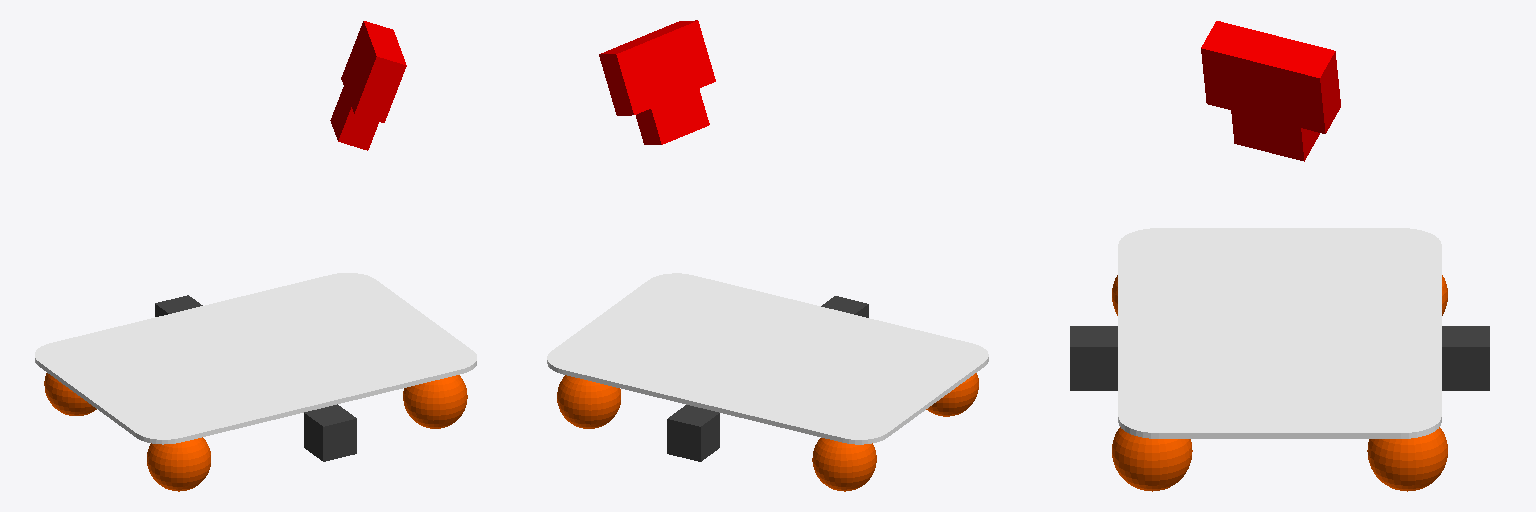
--- Facts derived from the render (not from the file) ---
3 views of the same robot in one strip: view 1: azimuth 30°, elevation 25°; view 2: azimuth 150°, elevation 25°; view 3: azimuth 270°, elevation 25° (orthographic).
Model youbot with 21 links and 20 joints (5 revolute, 8 continuous, 7 fixed), rooted at base_footprint, posed all joints at 0.
Visible links, largest first — view 1: plate_link, gripper_finger_link, wheel_link_br, wheel_link_fr, base_laser_left_link, gripper_palm_link, wheel_link_bl, base_laser_right_link; view 2: plate_link, gripper_finger_link, wheel_link_bl, wheel_link_fl, gripper_palm_link, base_laser_right_link, wheel_link_br, base_laser_left_link; view 3: plate_link, gripper_finger_link, wheel_link_fl, wheel_link_fr, base_laser_right_link, base_laser_left_link, gripper_palm_link.
Link boxes in pixels (x1,y1,x2,y2): plate_link: (35,273,476,444); gripper_finger_link: (341,21,406,122); wheel_link_br: (147,437,210,491); wheel_link_fr: (403,375,467,428); base_laser_left_link: (304,404,356,461); gripper_palm_link: (330,87,378,150); wheel_link_bl: (44,373,96,415); base_laser_right_link: (155,295,202,316); plate_link: (547,273,988,444); gripper_finger_link: (599,20,715,115); wheel_link_bl: (812,438,876,491); wheel_link_fl: (557,375,620,428); gripper_palm_link: (636,89,709,144); base_laser_right_link: (667,405,719,461); wheel_link_br: (926,373,978,416); base_laser_left_link: (821,296,868,317); plate_link: (1118,228,1441,438); gripper_finger_link: (1201,21,1340,133); wheel_link_fl: (1367,427,1447,491); wheel_link_fr: (1112,427,1192,491); base_laser_right_link: (1442,326,1489,390); base_laser_left_link: (1070,326,1117,390); gripper_palm_link: (1231,110,1319,161).
Size in the robot's own frame: 0.6 by 0.52 by 0.6102 metres.
0 mesh visuals loaded from 7 distinct referenced files (none loaded); not drawn: 7 (reference not matched to a file when rendering).

URDF robot description (youbot):
<?xml version="1.0" ?>
<!-- =================================================================================== -->
<!-- |    This document was autogenerated by xacro from ros_workspace/youbot-ros-pkg/youbot_common/youbot_description/robots/youbot.urdf.xacro | -->
<!-- |    EDITING THIS FILE BY HAND IS NOT RECOMMENDED                                 | -->
<!-- =================================================================================== -->
<robot name="youbot" xmlns:controller="http://playerstage.sourceforge.net/gazebo/xmlschema/#controller" xmlns:interface="http://playerstage.sourceforge.net/gazebo/xmlschema/#interface" xmlns:sensor="http://playerstage.sourceforge.net/gazebo/xmlschema/#sensor" xmlns:xacro="http://ros.org/wiki/xacro">
  <!-- The following included files set up definitions of parts of the robot body -->
  <!-- misc common stuff? -->
  <!-- youbot base -->
  <!-- youbot plate -->
  <!-- youbot arm -->
  <!-- youbot gripper -->
  <!-- generic simulator_gazebo plugins for starting mechanism control, ros time, ros battery -->
  <gazebo>
    <plugin filename="libgazebo_ros_controller_manager.so" name="gazebo_ros_controller_manager">
      <alwaysOn>true</alwaysOn>
      <updateRate>1000.0</updateRate>
    </plugin>
    <plugin filename="libgazebo_ros_power_monitor.so" name="gazebo_ros_power_monitor_controller">
      <alwaysOn>true</alwaysOn>
      <updateRate>1.0</updateRate>
      <timeout>5</timeout>
      <interface:audio name="power_monitor_dummy_interface"/>
      <powerStateTopic>power_state</powerStateTopic>
      <powerStateRate>10.0</powerStateRate>
      <fullChargeCapacity>87.78</fullChargeCapacity>
      <dischargeRate>-474</dischargeRate>
      <chargeRate>525</chargeRate>
      <dischargeVoltage>15.52</dischargeVoltage>
      <chargeVoltage>16.41</chargeVoltage>
    </plugin>
  </gazebo>
  <!-- materials for visualization -->
  <material name="Orange">
    <color rgba="1.0 0.4 0.0 1.0"/>
  </material>
  <material name="Grey">
    <color rgba="0.7 0.7 0.7 1.0"/>
  </material>
  <material name="DarkGrey">
    <color rgba="0.3 0.3 0.3 1.0"/>
  </material>
  <material name="White">
    <color rgba="1.0 1.0 1.0 1.0"/>
  </material>
  <material name="Black">
    <color rgba="0.0 0.0 0.0 1.0"/>
  </material>
  <material name="Red">
    <color rgba="1.0 0.0 0.0 1.0"/>
  </material>
  <material name="Green">
    <color rgba="0.0 1.0 0.0 1.0"/>
  </material>
  <!-- Now we can start using the macros included above to define the actual youbot -->
  <!-- The first use of a macro.  This one was defined in base.urdf.xacro above.
       A macro like this will expand to a set of link and joint definitions, and to additional
       Gazebo-related extensions (sensor plugins, etc).  The macro takes an argument, name, 
       that equals "base", and uses it to generate names for its component links and joints 
       (e.g., base_link).  The included origin block is also an argument to the macro.  By convention, 
       the origin block defines where the component is w.r.t its parent (in this case the parent 
       is the world frame). For more, see http://www.ros.org/wiki/xacro -->
  <!-- foot for arm-->
  <link name="base_footprint">
    <inertial>
      <mass value="0.1"/>
      <origin rpy="0 0 0" xyz="0 0 -0.05"/>
      <inertia ixx="1.0" ixy="0.0" ixz="0.0" iyy="1.0" iyz="0.0" izz="1.0"/>
    </inertial>
    <visual>
      <origin rpy="0 0 0" xyz="0 0 0"/>
      <geometry>
        <box size="0.001 0.001 0.001"/>
      </geometry>
      <material name="Red"/>
    </visual>
    <collision>
      <origin rpy="0 0 0" xyz="0 0 -0.05"/>
      <geometry>
        <box size="0.001 0.001 0.001"/>
      </geometry>
    </collision>
  </link>
  <joint name="base_footprint_joint" type="fixed">
    <origin rpy="0 0 0" xyz="0 0 0"/>
    <child link="base_link"/>
    <parent link="base_footprint"/>
  </joint>
  <link name="base_link">
    <inertial>
      <mass value="22.0"/>
      <origin xyz="0 0 0"/>
      <inertia ixx="5.652232699207" ixy="-0.009719934438" ixz="1.293988226423" iyy="5.669473158652" iyz="-0.007379583694" izz="3.683196351726"/>
    </inertial>
    <visual>
      <origin rpy="0 0 0" xyz="0 0 0"/>
      <geometry>
        <mesh filename="package://youbot_description/meshes/youbot_base/base.dae"/>
      </geometry>
      <material name="DarkGrey"/>
    </visual>
    <collision>
      <origin rpy="0 0 0" xyz="0 0 0"/>
      <geometry>
        <!--<box size="${base_size_x} ${base_size_y} ${base_size_z}" />-->
        <mesh filename="package://youbot_description/meshes/youbot_base/base_convex.dae"/>
      </geometry>
    </collision>
  </link>
 
  <joint name="caster_joint_fl" type="continuous">
    <origin rpy="0 0 0" xyz="0.228 0.158 -0.034"/>
    <axis xyz="0 0 1"/>
    <limit effort="30" velocity="10"/>
    <dynamics damping="1.0" friction="1.0"/>
    <safety_controller k_velocity="10.0"/>
    <parent link="base_link"/>
    <child link="caster_link_fl"/>
  </joint>
  <link name="caster_link_fl">
    <inertial>
      <mass value="0.1"/>
      <origin xyz="0 0 0"/>
      <inertia ixx="0.012411765597" ixy="-0.000711733678" ixz="0.00050272983" iyy="0.015218160428" iyz="-0.000004273467" izz="0.011763977943"/>
    </inertial>
  </link>
  <joint name="wheel_joint_fl" type="continuous">
    <axis xyz="0 1 0"/>
    <limit effort="30" velocity="10"/>
    <origin rpy="0 0 0" xyz="0.0 0.0 0.0"/>
    <parent link="caster_link_fl"/>
    <dynamics damping="1.0" friction="1.0"/>
    <safety_controller k_velocity="10.0"/>
    <child link="wheel_link_fl"/>
  </joint>
  <link name="wheel_link_fl">
    <inertial>
      <mass value="0.4"/>
      <origin xyz="0 0 0"/>
      <inertia ixx="0.012411765597" ixy="-0.000711733678" ixz="0.00050272983" iyy="0.015218160428" iyz="-0.000004273467" izz="0.011763977943"/>
    </inertial>
    <visual>
      <origin rpy="0 0 0" xyz="0 0 0"/>
      <!--<mesh filename="package://youbot_description/meshes/youbot_base/youbot_wheel.stl" />-->
      <geometry>
        <sphere radius="0.05"/>
      </geometry>
      <material name="Orange"/>
    </visual>
    <collision>
      <origin rpy="1.57079632679 0 0" xyz="0 0 0"/>
      <geometry>
        <cylinder length="0.05" radius="0.05"/>
      </geometry>
    </collision>
  </link>
  <joint name="caster_joint_fr" type="continuous">
    <origin rpy="0 0 0" xyz="0.228 -0.158 -0.034"/>
    <axis xyz="0 0 1"/>
    <limit effort="30" velocity="10"/>
    <dynamics damping="1.0" friction="1.0"/>
    <safety_controller k_velocity="10.0"/>
    <parent link="base_link"/>
    <child link="caster_link_fr"/>
  </joint>
  <link name="caster_link_fr">
    <inertial>
      <mass value="0.1"/>
      <origin xyz="0 0 0"/>
      <inertia ixx="0.012411765597" ixy="-0.000711733678" ixz="0.00050272983" iyy="0.015218160428" iyz="-0.000004273467" izz="0.011763977943"/>
    </inertial>
  </link>
  <joint name="wheel_joint_fr" type="continuous">
    <axis xyz="0 1 0"/>
    <limit effort="30" velocity="10"/>
    <dynamics damping="1.0" friction="1.0"/>
    <safety_controller k_velocity="10.0"/>
    <origin rpy="0 0 0" xyz="0.0 0.0 0.0"/>
    <parent link="caster_link_fr"/>
    <child link="wheel_link_fr"/>
  </joint>
  <link name="wheel_link_fr">
    <inertial>
      <mass value="0.4"/>
      <origin xyz="0 0 0"/>
      <inertia ixx="0.012411765597" ixy="-0.000711733678" ixz="0.00050272983" iyy="0.015218160428" iyz="-0.000004273467" izz="0.011763977943"/>
    </inertial>
    <visual>
      <origin rpy="0 0 0" xyz="0 0 0"/>
      <geometry>
        <!--<mesh filename="package://youbot_description/meshes/youbot_base/youbot_wheel.stl" />-->
        <sphere radius="0.05"/>
      </geometry>
      <material name="Orange"/>
    </visual>
    <collision>
      <origin rpy="1.57079632679 0 0" xyz="0 0 0"/>
      <geometry>
        <cylinder length="0.05" radius="0.05"/>
      </geometry>
    </collision>
  </link>
  <joint name="caster_joint_bl" type="continuous">
    <origin rpy="0 0 0" xyz="-0.228 0.158 -0.034"/>
    <axis xyz="0 0 1"/>
    <limit effort="30" velocity="10"/>
    <dynamics damping="1.0" friction="1.0"/>
    <safety_controller k_velocity="10.0"/>
    <parent link="base_link"/>
    <child link="caster_link_bl"/>
  </joint>
  <link name="caster_link_bl">
    <inertial>
      <mass value="0.1"/>
      <origin xyz="0 0 0"/>
      <inertia ixx="0.012411765597" ixy="-0.000711733678" ixz="0.00050272983" iyy="0.015218160428" iyz="-0.000004273467" izz="0.011763977943"/>
    </inertial>
  </link>
  <joint name="wheel_joint_bl" type="continuous">
    <axis xyz="0 1 0"/>
    <limit effort="10" velocity="10"/>
    <limit effort="30" velocity="10"/>
    <dynamics damping="1.0" friction="1.0"/>
    <safety_controller k_velocity="10.0"/>
    <origin rpy="0 0 0" xyz="0.0 0.0 0.0"/>
    <parent link="caster_link_bl"/>
    <child link="wheel_link_bl"/>
  </joint>
  <link name="wheel_link_bl">
    <inertial>
      <mass value="0.4"/>
      <origin xyz="0 0 0"/>
      <inertia ixx="0.012411765597" ixy="-0.000711733678" ixz="0.00050272983" iyy="0.015218160428" iyz="-0.000004273467" izz="0.011763977943"/>
    </inertial>
    <visual>
      <origin rpy="0 0 0" xyz="0 0 0"/>
      <geometry>
        <!--<mesh filename="package://youbot_description/meshes/youbot_base/youbot_wheel.stl" />-->
        <sphere radius="0.05"/>
      </geometry>
      <material name="Orange"/>
    </visual>
    <collision>
      <origin rpy="1.57079632679 0 0" xyz="0 0 0"/>
      <geometry>
        <cylinder length="0.05" radius="0.05"/>
      </geometry>
    </collision>
  </link>
  <joint name="caster_joint_br" type="continuous">
    <origin rpy="0 0 0" xyz="-0.228 -0.158 -0.034"/>
    <axis xyz="0 0 1"/>
    <limit effort="30" velocity="10"/>
    <dynamics damping="1.0" friction="1.0"/>
    <safety_controller k_velocity="10.0"/>
    <parent link="base_link"/>
    <child link="caster_link_br"/>
  </joint>
  <link name="caster_link_br">
    <inertial>
      <mass value="0.1"/>
      <origin xyz="0 0 0"/>
      <inertia ixx="0.012411765597" ixy="-0.000711733678" ixz="0.00050272983" iyy="0.015218160428" iyz="-0.000004273467" izz="0.011763977943"/>
    </inertial>
  </link>
  <joint name="wheel_joint_br" type="continuous">
    <axis xyz="0 1 0"/>
    <limit effort="30" velocity="10"/>
    <dynamics damping="1.0" friction="1.0"/>
    <safety_controller k_velocity="10.0"/>
    <origin rpy="0 0 0" xyz="0.0 0.0 0.0"/>
    <parent link="caster_link_br"/>
    <child link="wheel_link_br"/>
  </joint>
  <link name="wheel_link_br">
    <inertial>
      <mass value="0.4"/>
      <origin xyz="0 0 0"/>
      <inertia ixx="0.012411765597" ixy="-0.000711733678" ixz="0.00050272983" iyy="0.015218160428" iyz="-0.000004273467" izz="0.011763977943"/>
    </inertial>
    <visual>
      <origin rpy="0 0 0" xyz="0 0 0"/>
      <geometry>
        <!--<mesh filename="package://youbot_description/meshes/youbot_base/youbot_wheel.stl" />-->
        <sphere radius="0.05"/>
      </geometry>
      <material name="Orange"/>
    </visual>
    <collision>
      <origin rpy="1.57079632679 0 0" xyz="0 0 0"/>
      <geometry>
        <cylinder length="0.05" radius="0.05"/>
      </geometry>
    </collision>
  </link>
  <gazebo reference="youbot_base">
    <material value="youbot/DarkGrey"/>
  </gazebo>
  <gazebo reference="wheel_link_fl">
    <material value="youbot/Orange"/>
  </gazebo>
  <gazebo reference="caster_link_fl">
    <material value="youbot/Orange"/>
  </gazebo>
  <gazebo reference="wheel_link_fr">
    <material value="youbot/Orange"/>
  </gazebo>
  <gazebo reference="caster_link_fr">
    <material value="youbot/Orange"/>
  </gazebo>
  <gazebo reference="wheel_link_bl">
    <material value="youbot/Orange"/>
  </gazebo>
  <gazebo reference="caster_link_bl">
    <material value="youbot/Orange"/>
  </gazebo>
  <gazebo reference="wheel_link_br">
    <material value="youbot/Orange"/>
  </gazebo>
  <gazebo reference="caster_link_br">
    <material value="youbot/Orange"/>
  </gazebo>
  <gazebo>
    <plugin filename="libgazebo_ros_p3d.so" name="p3d_base_controller">
      <alwaysOn>true</alwaysOn>
      <updateRate>100.0</updateRate>
      <bodyName>base_link</bodyName>
      <topicName>base_pose_ground_truth</topicName>
      <gaussianNoise>0.01</gaussianNoise>
      <frameName>map</frameName>
      <xyzOffsets>25.7 25.7 0</xyzOffsets>
      <!-- initialize odometry for fake localization-->
      <rpyOffsets>0 0 0</rpyOffsets>
    </plugin>
    <canonicalBody>base_footprint</canonicalBody>
  </gazebo>
  <transmission name="wheel_trans_fl" type="pr2_mechanism_model/SimpleTransmission">
    <actuator name="wheel_motor_fl"/>
    <joint name="wheel_joint_fl"/>
    <mechanicalReduction>79.2380952381</mechanicalReduction>
  </transmission>
  <transmission name="caster_trans_fl" type="pr2_mechanism_model/SimpleTransmission">
    <actuator name="caster_motor_fl"/>
    <joint name="caster_joint_fl"/>
    <mechanicalReduction>79.2380952381</mechanicalReduction>
  </transmission>
  <transmission name="wheel_trans_fr" type="pr2_mechanism_model/SimpleTransmission">
    <actuator name="wheel_motor_fr"/>
    <joint name="wheel_joint_fr"/>
    <mechanicalReduction>79.2380952381</mechanicalReduction>
  </transmission>
  <transmission name="caster_trans_fr" type="pr2_mechanism_model/SimpleTransmission">
    <actuator name="caster_motor_fr"/>
    <joint name="caster_joint_fr"/>
    <mechanicalReduction>79.2380952381</mechanicalReduction>
  </transmission>
  <transmission name="wheel_trans_bl" type="pr2_mechanism_model/SimpleTransmission">
    <actuator name="wheel_motor_bl"/>
    <joint name="wheel_joint_bl"/>
    <mechanicalReduction>79.2380952381</mechanicalReduction>
  </transmission>
  <transmission name="caster_trans_bl" type="pr2_mechanism_model/SimpleTransmission">
    <actuator name="caster_motor_bl"/>
    <joint name="caster_joint_bl"/>
    <mechanicalReduction>79.2380952381</mechanicalReduction>
  </transmission>
  <transmission name="wheel_trans_br" type="pr2_mechanism_model/SimpleTransmission">
    <actuator name="wheel_motor_br"/>
    <joint name="wheel_joint_br"/>
    <mechanicalReduction>79.2380952381</mechanicalReduction>
  </transmission>
  <transmission name="caster_trans_br" type="pr2_mechanism_model/SimpleTransmission">
    <actuator name="caster_motor_br"/>
    <joint name="caster_joint_br"/>
    <mechanicalReduction>79.2380952381</mechanicalReduction>
  </transmission>


  <joint name="plate_joint" type="fixed">
        <origin rpy="0 0 0" xyz="0.0 0 0.02" />
        <parent link="base_link" />
        <child link="plate_link" />
  </joint>
  <link name="plate_link">
      <visual>
          <geometry>
              <box size="0.6 0.3 0.008" />
          </geometry>
          <origin xyz="0.0 0 0 " rpy="0 0 0." />
          <material name="White" />
      </visual>
      <collision>
          <origin xyz="0 0 0 " rpy="0 0 0." />
          <geometry>
              <box size="0.6 0.3 0.008" />
          </geometry>
      </collision>
      <visual>
          <geometry>
              <box size="0.5 0.4 0.008" />
          </geometry>
          <origin xyz="0.0 0 0 " rpy="0 0 0." />
          <material name="White" />
      </visual>
      <collision>
          <origin xyz="0 0 0 " rpy="0 0 0." />
          <geometry>
              <box size="0.5 0.4 0.008" />
          </geometry>
      </collision>
      <visual>
          <geometry>
              <cylinder length="0.008" radius="0.05" />
          </geometry>
          <origin xyz="0.25 0.15 0 " rpy="0 0 0." />
          <material name="White" />
      </visual>
      <collision>
          <origin xyz="0.25 0.15 0 " rpy="0 0 0." />
          <geometry>
              <cylinder length="0.008" radius="0.05" />
          </geometry>
      </collision>
      <visual>
          <geometry>
              <cylinder length="0.008" radius="0.05" />
          </geometry>
          <origin xyz="0.25 -0.15 0 " rpy="0 0 0." />
          <material name="White" />
      </visual>
      <collision>
          <origin xyz="0.25 -0.15 0 " rpy="0 0 0." />
          <geometry>
              <cylinder length="0.008" radius="0.05" />
          </geometry>
      </collision>
      <visual>
          <geometry>
              <cylinder length="0.008" radius="0.05" />
          </geometry>
          <origin xyz="-0.25 0.15 0 " rpy="0 0 0." />
          <material name="White" />
      </visual>
      <collision>
          <origin xyz="-0.25 0.15 0 " rpy="0 0 0." />
          <geometry>
              <cylinder length="0.008" radius="0.05" />
          </geometry>
      </collision>
      <visual>
          <geometry>
              <cylinder length="0.008" radius="0.05" />
          </geometry>
          <origin xyz="-0.25 -0.15 0 " rpy="0 0 0." />
          <material name="White" />
      </visual>
      <collision>
          <origin xyz="-0.25 -0.15 0 " rpy="0 0 0." />
          <geometry>
              <cylinder length="0.008" radius="0.05" />
          </geometry>
      </collision>
      
      <inertial>
          <mass value="0.1" />
          <inertia ixx="0.03" iyy="0.03" izz="0.03" ixy="0.0" ixz="0.0" iyz="0.0" />
      </inertial>
    </link>

  <joint name="base_laser_right_joint" type="fixed">
      <origin rpy="0 0 0" xyz="0.0 0.23 -0.004" />
      <parent link="plate_link" />
      <child link="base_laser_right_link" />
  </joint>
  <link name="base_laser_right_link">
      <visual>
          <geometry>
              <box size="0.06 0.06 0.06" />
          </geometry>
          <origin xyz="0.0 0 -0.03 " rpy="0 0 0." />
          <material name="DarkGrey" />
      </visual>
      <collision>
          <origin xyz="0.0 0 -0.03 " rpy="0 0 0." />
          <geometry>
              <box size="0.06 0.06 0.06" />
          </geometry>
      </collision>
      
      <inertial>
          <mass value="0.1" />
          <inertia ixx="0.03" iyy="0.03" izz="0.03" ixy="0.0" ixz="0.0" iyz="0.0" />
      </inertial>

  </link>
  <joint name="base_laser_left_joint" type="fixed">
      <origin rpy="0 0 0" xyz="0.0 -0.23 -0.004" />
      <parent link="plate_link" />
      <child link="base_laser_left_link" />
  </joint>
  <link name="base_laser_left_link">
      <visual>
          <geometry>
              <box size="0.06 0.06 0.06" />
          </geometry>
          <origin xyz="0.0 0 -0.03 " rpy="0 0 0." />
          <material name="DarkGrey" />
      </visual>
      <collision>
          <origin xyz="0.0 0 -0.03 " rpy="0 0 0." />
          <geometry>
              <box size="0.06 0.06 0.06" />
          </geometry>
      </collision>
      <inertial>
          <mass value="0.1" />
          <inertia ixx="0.03" iyy="0.03" izz="0.03" ixy="0.0" ixz="0.0" iyz="0.0" />
      </inertial>
  </link>

  <joint name="arm_joint_0" type="fixed">
    <origin rpy="0 0 0" xyz="0.123 0 0.056"/>
    <parent link="base_link"/>
    <child link="arm_link_0"/>
  </joint>
  <link name="arm_link_0">
    <inertial>
      <!--<origin xyz="0.023 0 0.006" rpy="0 0 0"/>-->
      <origin rpy="0 0 0" xyz="0 0 0"/>
      <mass value="0.845"/>
      <inertia ixx="0.01" ixy="0" ixz="0" iyy="0.01" iyz="0" izz="0.01"/>
    </inertial>
    <visual>
      <origin rpy="0 0 0" xyz="0 0 0"/>
      <geometry>
        <mesh filename="package://youbot_description/meshes/youbot_arm/arm0.dae"/>
      </geometry>
      <material name="DarkGrey"/>
    </visual>
    <collision>
      <!--<origin xyz="0.023 0 0.006" rpy="0 0 0"/>-->
      <origin rpy="0 0 0" xyz="0 0 0"/>
      <geometry>
        <mesh filename="package://youbot_description/meshes/youbot_arm/arm0_convex.dae"/>
        <!--<cylinder length="0.078" radius="0.093"/>-->
      </geometry>
    </collision>
  </link>
  <joint name="arm_joint_1" type="revolute">
    <!-- <origin rpy="0 0 2.96705972839" xyz="0.024 0 0.096"/> -->
    <origin rpy="0 0 2.94960643587" xyz="0.024 0 0.096"/>
    <parent link="arm_link_0"/>
    <child link="arm_link_1"/>
    <axis xyz="0 0 -1"/>
    <!--<calibration rising="${arm_1_ref}" falling="${arm_1_ref}"/>-->
    <dynamics damping="1" friction="1"/>
    <!-- damping - N*s/m, N*s*m/rad -->
    <!-- friction - N, N*m -->
    <limit effort="9.5" lower="0" upper="5.89921287174" velocity="1.57079632679"/>
    <!--effort - N, N*m-->
    <!--velocity - m/s, rad/s-->
    <safety_controller k_position="20" k_velocity="1.51197195937" soft_lower_limit="0.001" soft_upper_limit="5.89821287174"/>
    <!--k_position N/m, N/rad-->
    <!--k_velocity N*s/m, N*s*m/rad-->
    <!--for details: http://www.ros.org/wiki/pr2_controller_manager/safety_limits-->
  </joint>
  <link name="arm_link_1">
    <inertial>
      <mass value="2.412"/>
      <origin rpy="0 0 0" xyz="0.01489 0.00213 0.00213"/>
      <inertia ixx="0.003863" ixy="-0.000979" ixz="0.000000" iyy="0.006196" iyz="0.000000" izz="0.006369"/>
    </inertial>
    <visual>
      <origin rpy="0 0 0" xyz="0 0 0"/>
      <geometry>
        <mesh filename="package://youbot_description/meshes/youbot_arm/arm1.dae"/>
      </geometry>
      <!--<material name="Orange" />-->
    </visual>
    <collision>
      <!--<origin xyz="0 0 -0.003" rpy="0 0 0" />-->
      <origin rpy="0 0 0" xyz="0 0 0"/>
      <geometry>
        <mesh filename="package://youbot_description/meshes/youbot_arm/arm1_convex.dae"/>
        <!--<cylinder length="0.102" radius="0.080"/>-->
      </geometry>
    </collision>
  </link>
  <joint name="arm_joint_2" type="revolute">
    <origin rpy="0 -1.1344640138 0" xyz="0.033 0 0.019"/>
    <parent link="arm_link_1"/>
    <child link="arm_link_2"/>
    <axis xyz="0 1 0"/>
    <!--<calibration rising="${arm_2_ref}" falling="${arm_2_ref}"/>-->
    <dynamics damping="1" friction="1"/>
    <limit effort="9.5" lower="0" upper="2.70526034059" velocity="1.57079632679"/>
    <safety_controller k_position="20" k_velocity="6.04788783749" soft_lower_limit="0.001" soft_upper_limit="2.70426034059"/>
  </joint>
  <link name="arm_link_2">
    <inertial>
      <mass value="1.155"/>
      <origin rpy="0 0 0" xyz="0.10453 0.0017 -0.00297"/>
      <inertia ixx="0.000823" ixy="0.000000" ixz="-0.000000" iyy="0.004447" iyz="0.000000" izz="0.004439"/>
    </inertial>
    <visual>
      <origin rpy="0 0 0" xyz="0 -0.032 0.078"/>
      <geometry>
        <mesh filename="package://youbot_description/meshes/youbot_arm/arm2.dae"/>
      </geometry>
      <material name="Orange"/>
    </visual>
    <collision>
      <!--<origin xyz="0.001 -0.041 0.074" rpy="0 0 0" />-->
      <origin rpy="0 0 0" xyz="0 -0.032 0.078"/>
      <geometry>
        <mesh filename="package://youbot_description/meshes/youbot_arm/arm2_convex.dae"/>
        <!--<box size="0.074 0.082 0.222"/>-->
      </geometry>
    </collision>
  </link>
  <joint name="arm_joint_3" type="revolute">
    <origin rpy="0 2.54818070791 0" xyz="0.000 0.000 0.155"/>
    <parent link="arm_link_2"/>
    <child link="arm_link_3"/>
    <axis xyz="0 1 0"/>
    <dynamics damping="1" friction="1"/>
    <limit effort="6.0" lower="-5.18362787842" upper="0" velocity="1.57079632679"/>
    <safety_controller k_position="20" k_velocity="50" soft_lower_limit="-5.18262787842" soft_upper_limit="-0.001"/>
  </joint>
  <link name="arm_link_3">
    <inertial>
      <mass value="0.934"/>
      <origin rpy="0 0 0" xyz="0.0001 0.0967 0.02107"/>
      <inertia ixx="0.002459" ixy="0.000000" ixz="0.000000" iyy="0.002571" iyz="-0.000000" izz="0.000535"/>
    </inertial>
    <visual>
      <origin rpy="0 0 0" xyz="0.000 0.028 0.079"/>
      <geometry>
        <mesh filename="package://youbot_description/meshes/youbot_arm/arm3.dae"/>
      </geometry>
      <material name="Orange"/>
    </visual>
    <collision>
      <!--<origin xyz="0.000 0.025 0.067" rpy="0 0 0" />-->
      <origin rpy="0 0 0" xyz="0.000 0.028 0.079"/>
      <geometry>
        <mesh filename="package://youbot_description/meshes/youbot_arm/arm3_convex.dae"/>
        <!--<box size="0.064 0.054 0.192"/>-->
      </geometry>
    </collision>
  </link>
  <joint name="arm_joint_4" type="revolute">
    <origin rpy="0 -1.78896248329 0" xyz="0.000 0.000 0.135"/>
    <parent link="arm_link_3"/>
    <child link="arm_link_4"/>
    <axis xyz="0 1 0"/>
    <!--<calibration rising="${arm_4_ref}" falling="${arm_4_ref}"/>-->
    <dynamics damping="1" friction="1"/>
    <limit effort="2.0" lower="0" upper="3.57792496659" velocity="1.57079632679"/>
    <safety_controller k_position="20" k_velocity="100" soft_lower_limit="0" soft_upper_limit="3.57692496659"/>
  </joint>
  <link name="arm_link_4">
    <inertial>
      <mass value="0.877"/>
      <origin rpy="0 0 0" xyz="0.00011 0.05103 -0.02319"/>
      <inertia ixx="0.000869" ixy="0.000000" ixz="-0.000000" iyy="0.001173" iyz="-0.000231" izz="0.001091"/>
    </inertial>
    <visual>
      <origin rpy="0 0 0" xyz="0 -0.010 0.029"/>
      <geometry>
        <mesh filename="package://youbot_description/meshes/youbot_arm/arm4.dae"/>
      </geometry>
      <material name="Orange"/>
    </visual>
    <collision>
      <!--<origin xyz="0 0 0.026" rpy="0 0 0" />-->
      <origin rpy="0 0 0" xyz="0 -0.010 0.029"/>
      <geometry>
        <mesh filename="package://youbot_description/meshes/youbot_arm/arm4_convex.dae"/>
        <!--<box size="0.058 0.100 0.118"/>-->
      </geometry>
    </collision>
  </link>
  <joint name="arm_joint_5" type="revolute">
    <origin rpy="0 0 2.92342649709" xyz="-0.002 0 0.130"/>
    <parent link="arm_link_4"/>
    <child link="arm_link_5"/>
    <axis xyz="0 0 -1"/>
    <!--<calibration rising="${arm_5_ref}" falling="${arm_5_ref}"/>-->
    <dynamics damping="1" friction="1"/>
    <limit effort="1" lower="0" upper="5.84685299418" velocity="1.57079632679"/>
    <safety_controller k_position="20" k_velocity="100" soft_lower_limit="0" soft_upper_limit="5.84585299418"/>
  </joint>
  <link name="arm_link_5">
    <inertial>
      <mass value="0.251"/>
      <origin rpy="0 0 0" xyz="0.0 0.00115 -0.01683"/>
      <inertia ixx="0.000280" ixy="0.000000" ixz="0.000000" iyy="0.000339" iyz="0.000000" izz="0.000119"/>
    </inertial>
    <visual>
      <origin rpy="0 0 0" xyz="0.003 0 -0.034"/>
      <geometry>
        <mesh filename="package://youbot_description/meshes/youbot_arm/arm5.dae"/>
      </geometry>
      <material name="DarkGrey"/>
    </visual>
    <collision>
      <origin rpy="0 0 0" xyz="0.003 0 -0.034"/>
      <geometry>
        <mesh filename="package://youbot_description/meshes/youbot_arm/arm5_convex.dae"/>
        <!--<box size="0.054 0.096 0.030"/>-->
      </geometry>
    </collision>
  </link>
  <gazebo reference="arm_link_0">
    <material value="youbot/DarkGrey"/>
    <turnGravityOff>false</turnGravityOff>
  </gazebo>
  <gazebo reference="arm_link_1">
    <!--<material value="youbot/Orange" />-->
    <turnGravityOff>false</turnGravityOff>
  </gazebo>
  <gazebo reference="arm_link_2">
    <!--<material value="youbot/Orange" />-->
    <turnGravityOff>false</turnGravityOff>
  </gazebo>
  <gazebo reference="arm_link_3">
    <!--<material value="youbot/Orange" />-->
    <turnGravityOff>false</turnGravityOff>
  </gazebo>
  <gazebo reference="arm_link_4">
    <!--<material value="youbot/Orange" />-->
    <turnGravityOff>false</turnGravityOff>
  </gazebo>
  <gazebo reference="arm_link_5">
    <!--<material value="youbot/DarkGrey" />-->
    <turnGravityOff>false</turnGravityOff>
  </gazebo>
  <transmission name="arm_trans_1" type="pr2_mechanism_model/SimpleTransmission">
    <actuator name="arm_motor_1"/>
    <joint name="arm_joint_1"/>
    <mechanicalReduction>1</mechanicalReduction>
  </transmission>
  <transmission name="arm_trans_2" type="pr2_mechanism_model/SimpleTransmission">
    <actuator name="arm_motor_2"/>
    <joint name="arm_joint_2"/>
    <mechanicalReduction>1</mechanicalReduction>
  </transmission>
  <transmission name="arm_trans_3" type="pr2_mechanism_model/SimpleTransmission">
    <actuator name="arm_motor_3"/>
    <joint name="arm_joint_3"/>
    <mechanicalReduction>1</mechanicalReduction>
  </transmission>
  <transmission name="arm_trans_4" type="pr2_mechanism_model/SimpleTransmission">
    <actuator name="arm_motor_4"/>
    <joint name="arm_joint_4"/>
    <mechanicalReduction>1</mechanicalReduction>
  </transmission>
  <transmission name="arm_trans_5" type="pr2_mechanism_model/SimpleTransmission">
    <actuator name="arm_motor_5"/>
    <joint name="arm_joint_5"/>
    <mechanicalReduction>1</mechanicalReduction>
  </transmission>

  <joint name="gripper_palm_joint" type="fixed">
    <origin rpy="0 -1.57079632679 0" xyz="0 0 0.043" />
    <parent link="arm_link_5" />
    <child link="gripper_palm_link" />
  </joint>
  <link name="gripper_palm_link">
      <visual>
          <geometry>
              <box size="0.06 0.094 0.05" />
          </geometry>
          <origin xyz="-0.03 0 0 " rpy="0 0 0." />
          <material name="Red" />
      </visual>
      <collision>
          <origin xyz="-0.03 0 0 " rpy="0 0 0." />
          <geometry>
              <box size="0.06 0.094 0.05" />
          </geometry>
      </collision>
      <inertial>
          <mass value="0.1" />
          <inertia ixx="0.03" iyy="0.03" izz="0.03" ixy="0.0" ixz="0.0" iyz="0.0" />
      </inertial>
  </link>
  <joint name="gripper_finger_joint" type="fixed">
      <origin rpy="0 0 0" xyz="0.1 0 0" />
      <parent link="gripper_palm_link" />
      <child link="gripper_finger_link" />
  </joint>
  <link name="gripper_finger_link">
      <visual>
          <geometry>
              <box size=" 0.1 0.16 0.05" />
          </geometry>
          <origin xyz="-0.05 0 0 " rpy="0 0 0" />
          <material name="Red" />
      </visual>
      <collision>
          <origin xyz="-0.05 0 0 " rpy="0 0 0" />
          <geometry>
              <box size=" 0.1 0.16 0.05" />
          </geometry>
      </collision>
      <inertial>
          <mass value="0.1" />
          <inertia ixx="0.03" iyy="0.03" izz="0.03" ixy="0.0" ixz="0.0" iyz="0.0" />
      </inertial>
  </link>
  

</robot>
